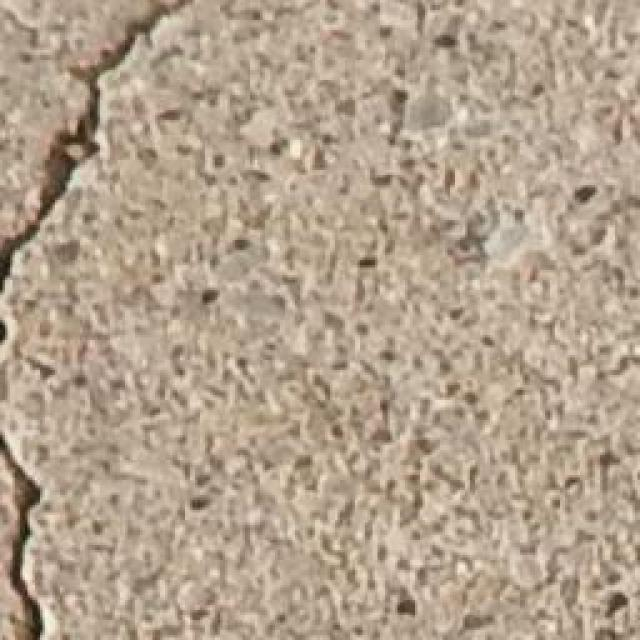concrete-crack: (0, 0, 192, 350), (0, 439, 52, 638)
